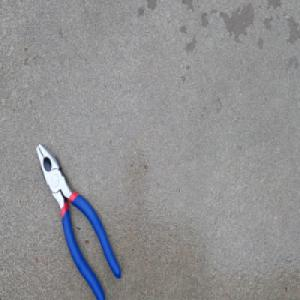Pliers: (35, 141, 121, 300)
